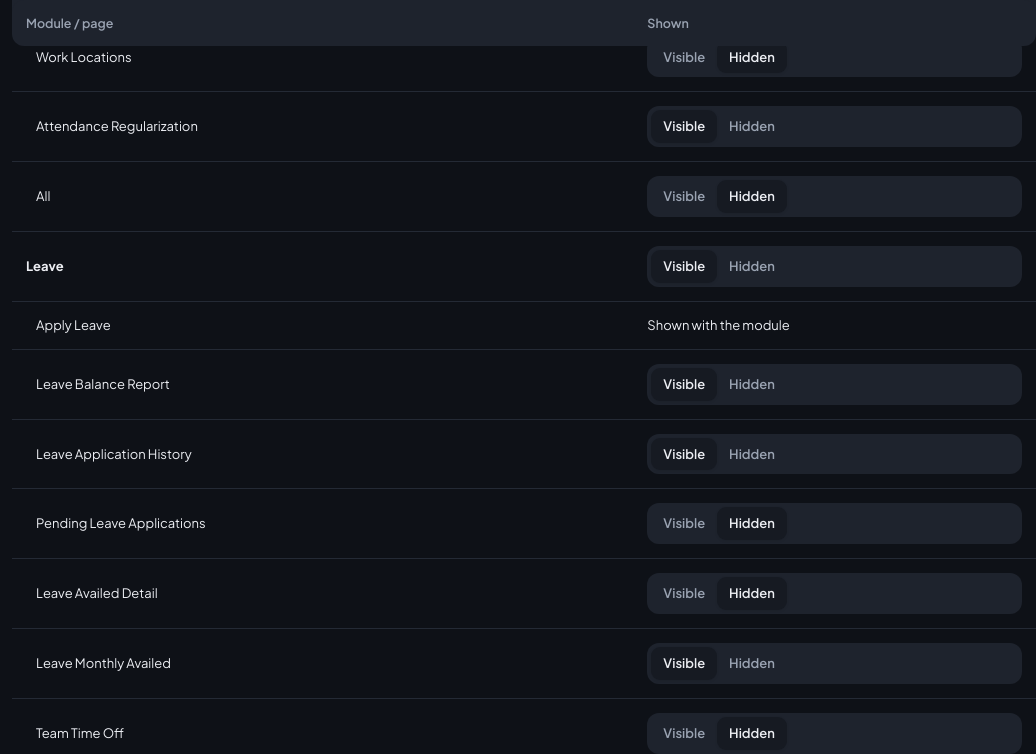
Scenario: the Security page › saves a page hidden with its switch, and only what differs from the default
(page scrolled)
Click the button "Hidden" in the row of "Leave Balance Report".
click(752, 384)  # box [717,368,787,400]
(page scrolled)
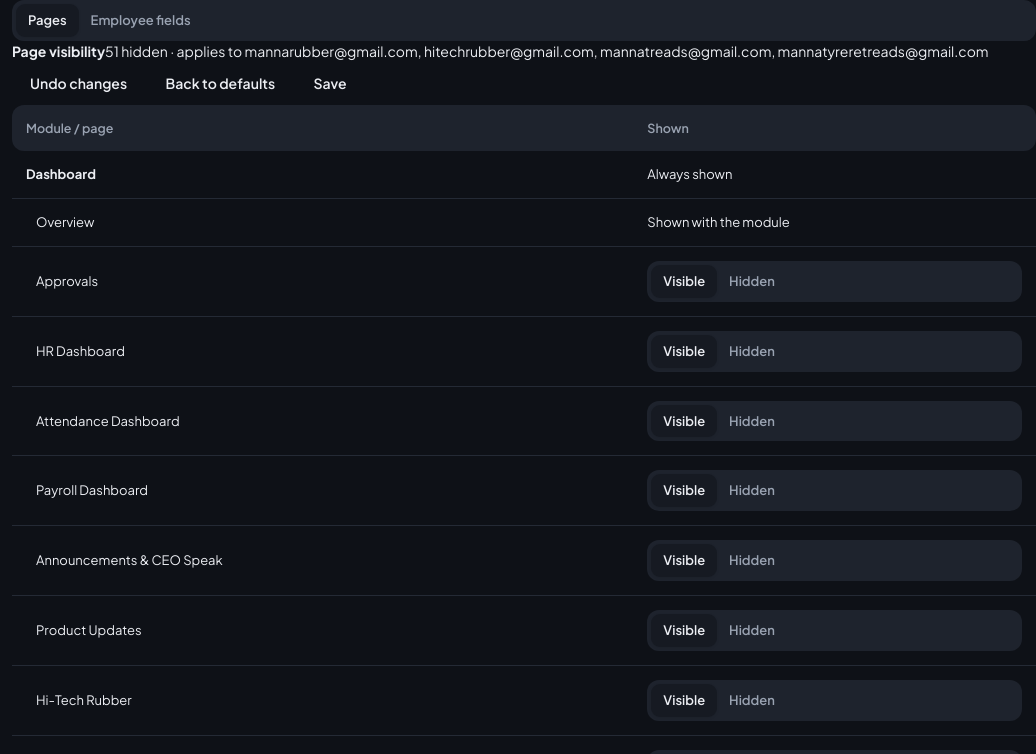
Click the button "Save".
click(330, 83)  # box [296,61,365,105]
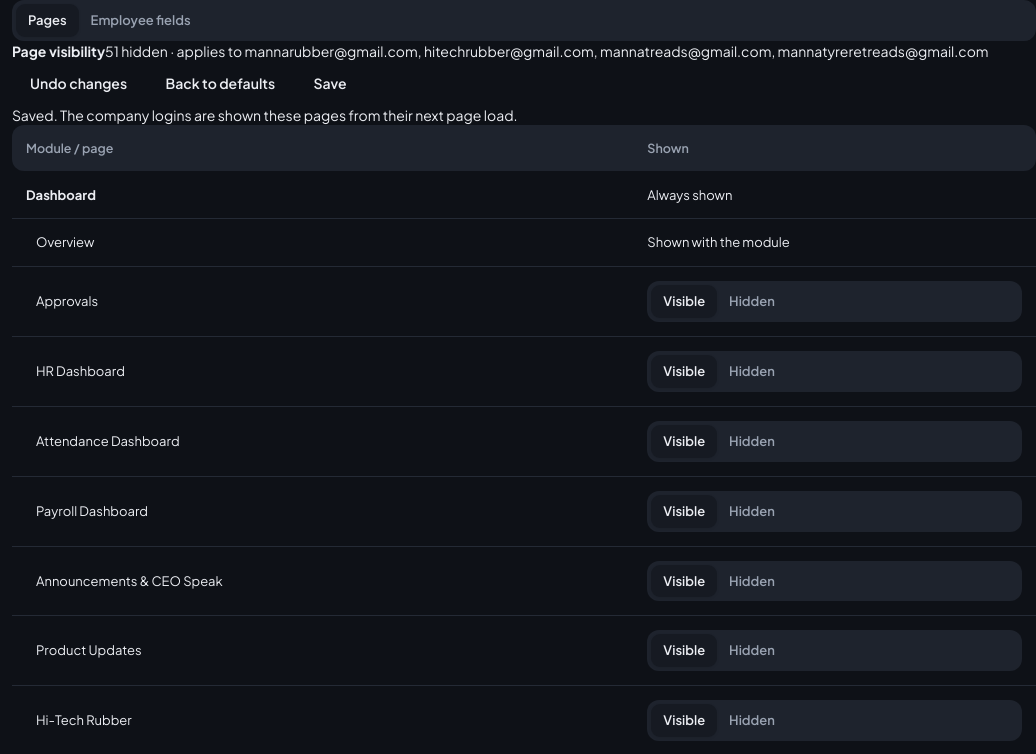
Now the text "Saved." is shown, box [12,106,518,124]
